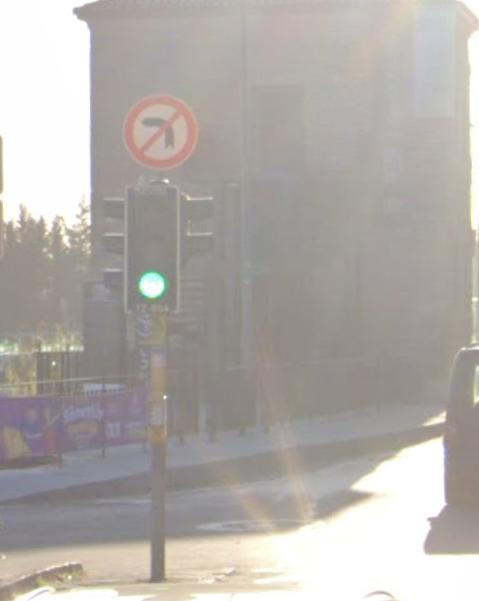greenlight: (128, 186, 178, 304)
leftturnsareforbidden: (122, 98, 198, 170)
